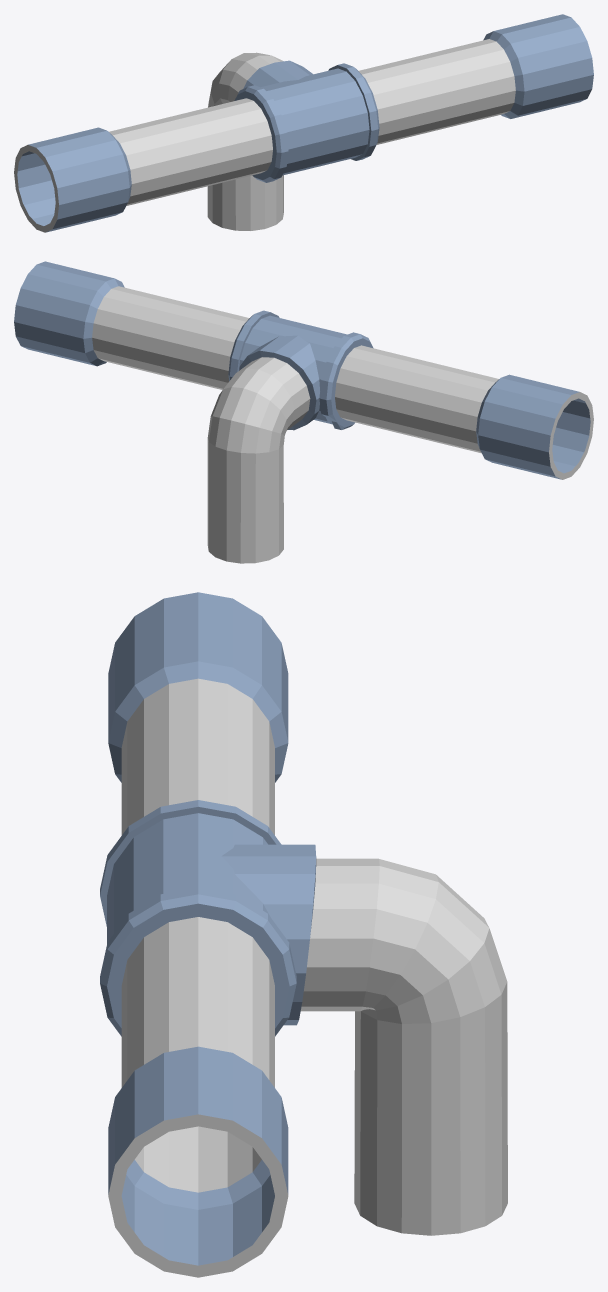
File: chem_main_pipe.fbx
3 views of the same model, one above another, from view 1: azimuth 30°, elevation 25°; view 2: azimuth 150°, elevation 25°; view 3: azimuth 270°, elevation 25° (orthographic). The views are drawn at different scales.
Visible parts, largest first — view 1: refinery_main_pipe; view 2: refinery_main_pipe; view 3: refinery_main_pipe.
Boxes of the visible parts, bbox=[...] form: refinery_main_pipe: bbox=[14, 14, 593, 232]; refinery_main_pipe: bbox=[14, 261, 593, 563]; refinery_main_pipe: bbox=[100, 592, 507, 1277].
Size of the model in its own units: 1287 by 411 by 425.
